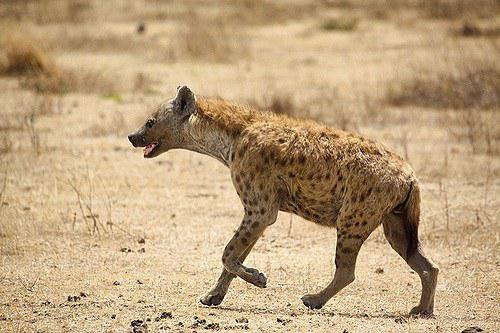hyena: (127, 81, 441, 317)
